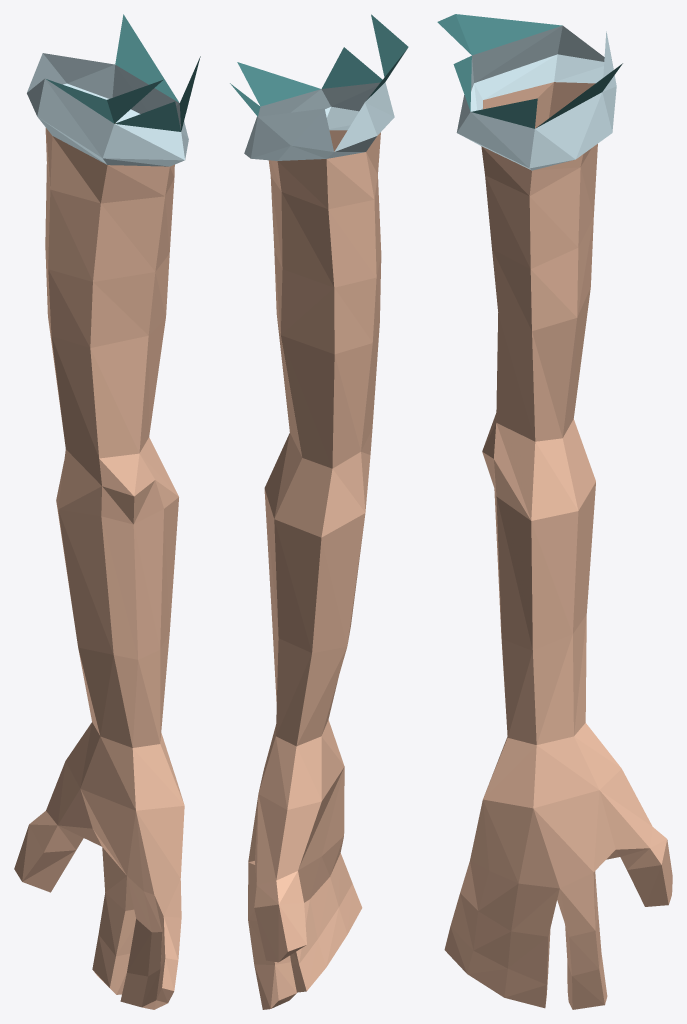
The model's file is ArmR.obj.
3 views of the same model, side by side, from view 1: azimuth 30°, elevation 25°; view 2: azimuth 150°, elevation 25°; view 3: azimuth 270°, elevation 25° (orthographic). The views are drawn at different scales.
Size of the model in its own units: 0.1419 by 0.8566 by 0.1878.
1 material, 1 textured.
